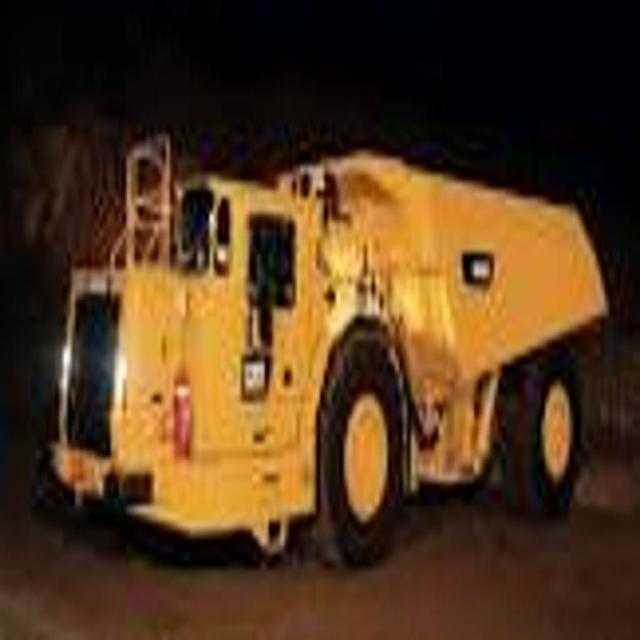dump_truck: (54, 110, 606, 564)
